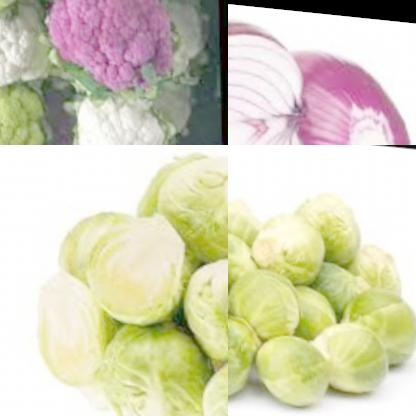brus capusta: (228, 145, 416, 410), (63, 177, 194, 332), (134, 145, 228, 280), (14, 270, 117, 393), (88, 321, 215, 416), (179, 239, 228, 344), (199, 348, 228, 416)
cayliflower: (35, 0, 174, 93), (56, 74, 179, 145), (0, 0, 45, 89), (0, 78, 46, 145)
onion: (247, 37, 416, 145), (228, 0, 317, 145)
